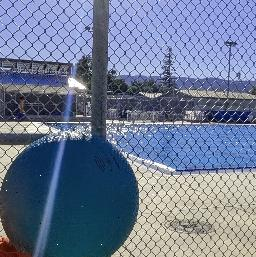algae: (0, 128, 142, 257)
